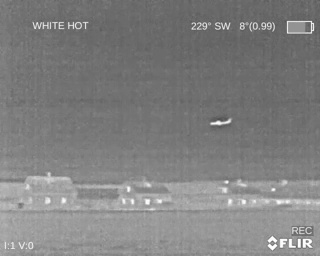AIRPLANE: (209, 118, 231, 126)
